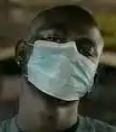with_facemask: (32, 40, 92, 104)
